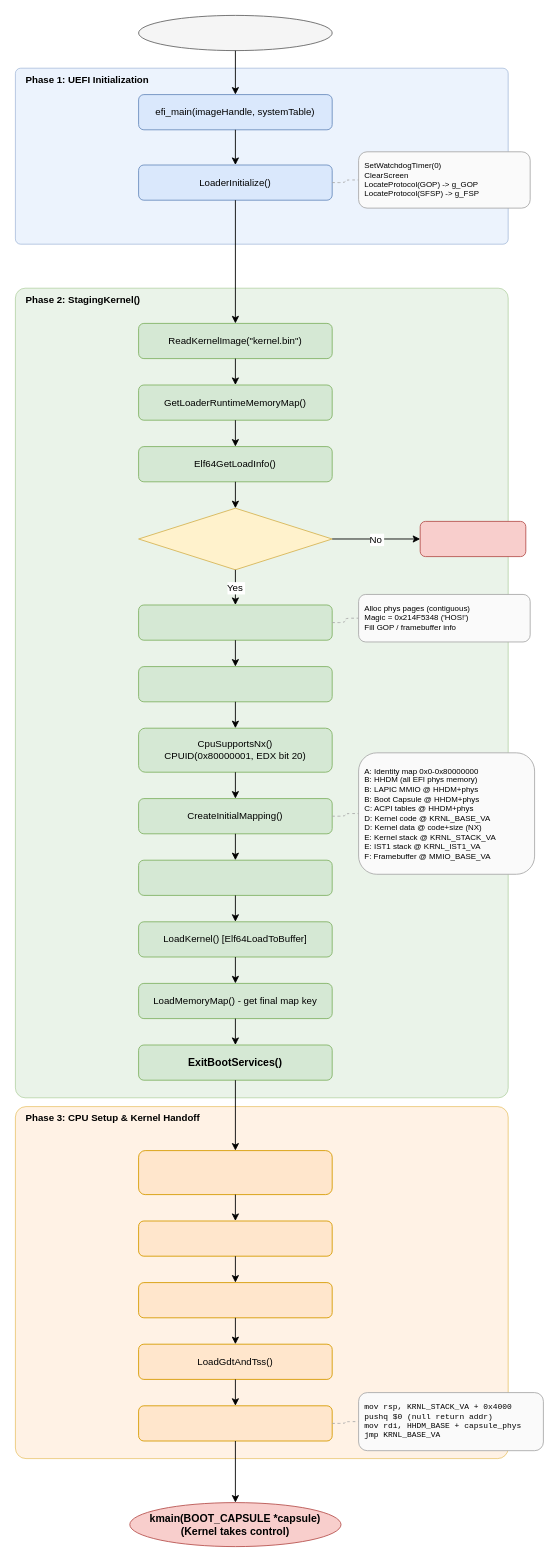
Image size: 559x1562. Some labels were removed from this diagram. The centre of each missing label's shape, as x and y in pixels:
__asm__ cli (IF = 0): point 235,1238
CreateCapsule(): point 235,622
EnableNxe() (Set IA32_EFER.NXE = 1): point 235,1172
Error / Halt: point 472,539
FindAcpiRsdpPhys(): point 235,684
InitCpuCoreLocalData(): point 235,877
JumpToKernel(): point 235,1423
LoadCR3(PML4 physical addr): point 235,1300
UEFI Firmware: point 235,33
Valid ELF64? Entry == KRNL_BASE_VA?: point 235,538
